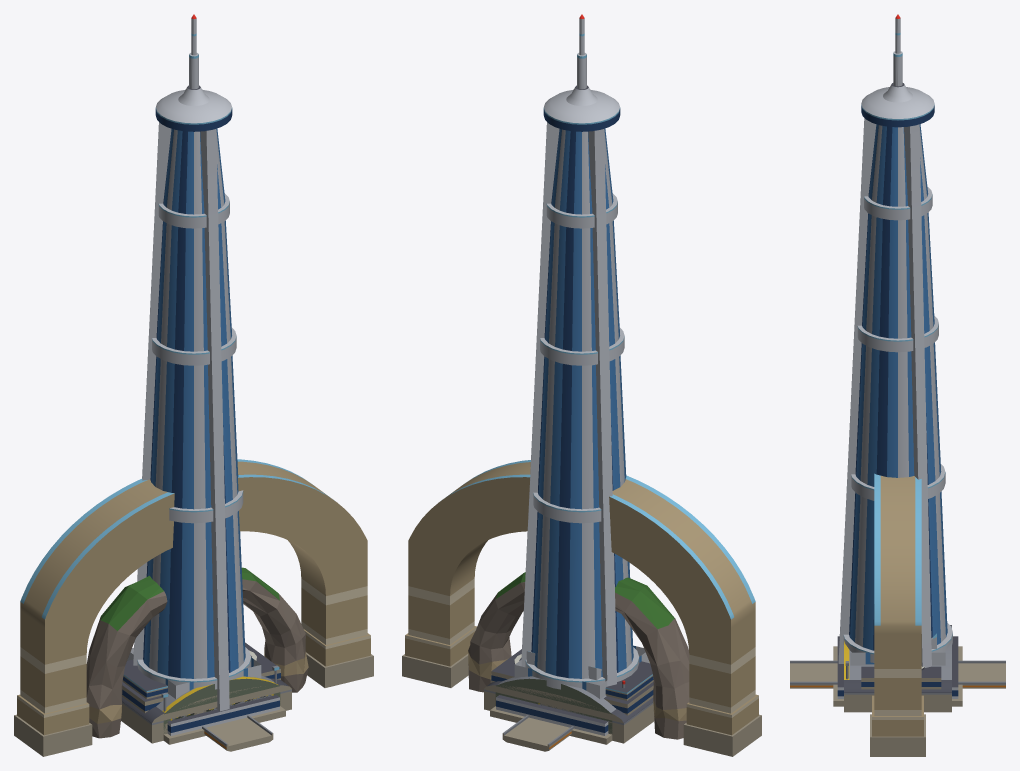
Rendered from corneria_kit.glb.
3 views of the same model, side by side, from view 1: azimuth 30°, elevation 25°; view 2: azimuth 150°, elevation 25°; view 3: azimuth 270°, elevation 25° (orthographic). The views are drawn at different scales.
Visible parts, largest first — view 1: Kit_City_Spire, Kit_Landmark_Arch, Kit_Rock_Arch, Kit_City_Warehouse_B, Kit_Base_Hangar, Kit_Base_HQ, Kit_City_Bridge, Kit_City_Tower_C_Base; view 2: Kit_City_Spire, Kit_Landmark_Arch, Kit_Rock_Arch, Kit_City_Warehouse_B, Kit_Base_HQ, Kit_Base_Hangar, Kit_City_Bridge, Kit_City_Tower_C_Base; view 3: Kit_City_Spire, Kit_Landmark_Arch, Kit_City_Bridge, Kit_City_Warehouse_B, Kit_Base_HQ, Kit_Base_Hangar, Kit_City_Tower_C_Base.
Part boxes in pixels (x1,y1,x2,y2): Kit_City_Spire: [133, 14, 285, 744]; Kit_Landmark_Arch: [14, 459, 373, 756]; Kit_Rock_Arch: [86, 567, 308, 738]; Kit_City_Warehouse_B: [121, 678, 291, 743]; Kit_Base_Hangar: [156, 665, 280, 733]; Kit_Base_HQ: [122, 642, 280, 713]; Kit_City_Bridge: [202, 715, 273, 751]; Kit_City_Tower_C_Base: [127, 647, 261, 698]; Kit_City_Spire: [490, 14, 639, 744]; Kit_Landmark_Arch: [402, 460, 761, 756]; Kit_Rock_Arch: [468, 572, 689, 739]; Kit_City_Warehouse_B: [484, 681, 654, 743]; Kit_Base_HQ: [491, 649, 653, 715]; Kit_Base_Hangar: [495, 662, 649, 734]; Kit_City_Bridge: [502, 715, 573, 751]; Kit_City_Tower_C_Base: [514, 645, 649, 698]; Kit_City_Spire: [833, 14, 962, 706]; Kit_Landmark_Arch: [870, 473, 925, 756]; Kit_City_Bridge: [790, 660, 1005, 688]; Kit_City_Warehouse_B: [844, 625, 951, 712]; Kit_Base_HQ: [861, 666, 941, 689]; Kit_Base_Hangar: [844, 625, 951, 679]; Kit_City_Tower_C_Base: [850, 652, 945, 665].
Bounding box in the file's own units: 170 × 340 × 100.
